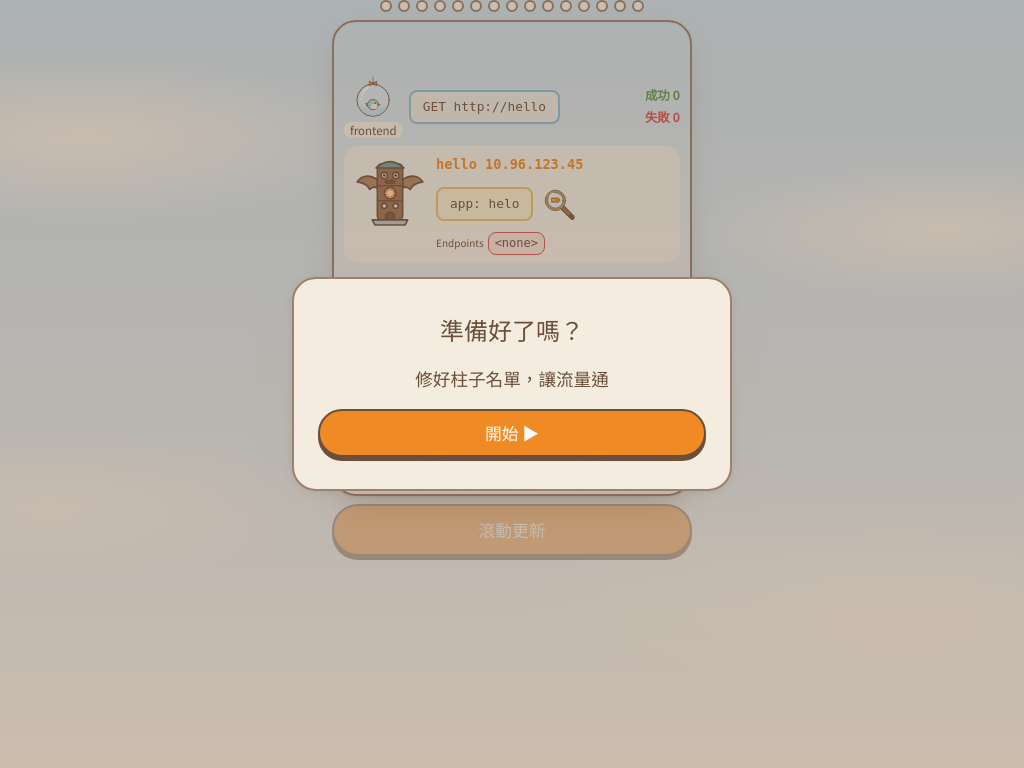
Test: Day14Game › selector 打錯時名單是空的，請求全部失敗
Click the button with test id "shell-start" at (512, 433), box [318,409,706,457]
Wait 3000 ms
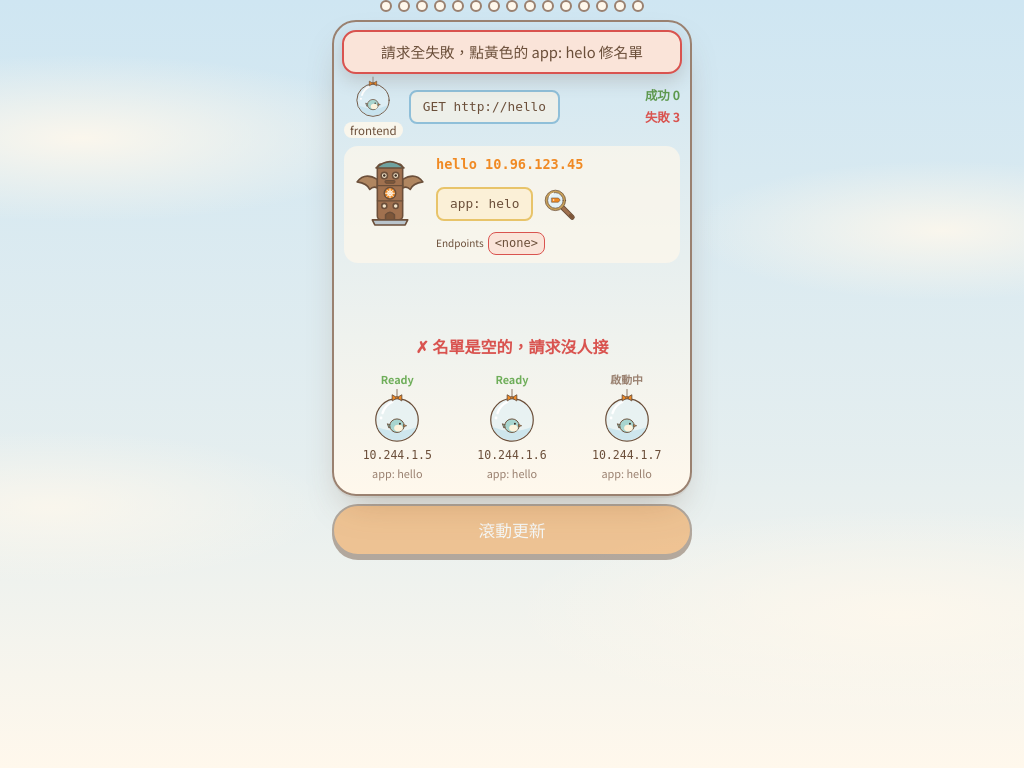
Result: the text with test id "fail-count" shows "3" at [645,108,680,126]
